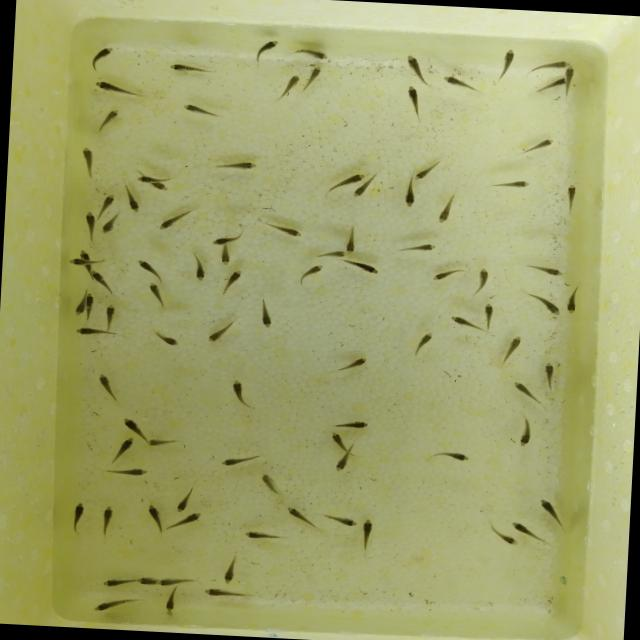fingerling: (92, 78, 153, 102), (536, 494, 566, 528), (204, 316, 237, 346), (393, 238, 442, 258), (158, 207, 196, 232), (441, 73, 484, 95), (77, 144, 102, 181), (514, 414, 538, 452), (210, 158, 260, 176), (90, 597, 140, 615), (530, 292, 563, 319), (177, 102, 226, 120), (511, 378, 542, 406), (167, 510, 203, 534), (403, 54, 430, 86), (470, 266, 496, 298), (168, 61, 218, 77), (346, 258, 382, 280), (110, 436, 138, 464), (203, 585, 252, 601), (98, 502, 121, 536), (95, 108, 124, 134), (88, 270, 119, 294), (322, 510, 359, 530), (284, 504, 316, 527), (174, 484, 198, 514), (94, 372, 118, 402), (496, 46, 516, 82), (524, 135, 558, 156), (504, 332, 526, 364), (188, 250, 210, 282), (563, 280, 583, 315), (120, 413, 148, 438), (109, 464, 152, 480), (298, 262, 326, 286), (88, 44, 116, 68), (144, 502, 166, 532), (228, 378, 250, 408), (136, 258, 166, 280), (507, 516, 540, 536), (435, 194, 456, 225), (258, 472, 284, 497), (430, 266, 466, 284), (404, 85, 423, 119), (222, 269, 245, 297), (487, 178, 533, 192), (218, 454, 260, 469), (336, 355, 371, 373), (428, 450, 473, 464), (144, 282, 168, 308), (255, 37, 282, 60), (290, 44, 328, 60), (332, 418, 372, 433), (70, 501, 88, 534), (449, 313, 482, 331), (258, 298, 276, 330), (530, 264, 566, 280), (359, 516, 375, 552), (280, 73, 302, 99), (413, 330, 435, 356), (302, 64, 324, 90), (492, 530, 520, 550), (414, 160, 439, 182), (151, 332, 183, 349), (401, 178, 418, 210), (70, 325, 106, 340), (156, 575, 197, 588), (538, 75, 566, 94), (540, 359, 556, 392), (124, 188, 144, 214), (562, 184, 578, 216), (221, 555, 238, 585), (100, 212, 121, 236), (265, 222, 301, 236), (536, 56, 572, 70), (82, 211, 97, 244), (242, 530, 282, 542), (331, 452, 351, 476), (209, 232, 243, 246), (163, 587, 181, 613), (216, 245, 236, 268), (146, 437, 184, 449), (312, 249, 346, 262), (98, 192, 116, 215), (329, 429, 347, 452), (99, 577, 136, 588), (345, 224, 358, 255), (482, 301, 496, 329), (103, 302, 116, 328), (339, 172, 366, 184), (74, 294, 87, 318), (85, 293, 96, 321), (352, 183, 368, 200), (565, 66, 575, 93), (136, 574, 155, 588), (152, 180, 171, 193), (66, 256, 90, 266), (133, 174, 153, 186), (76, 249, 94, 259)
